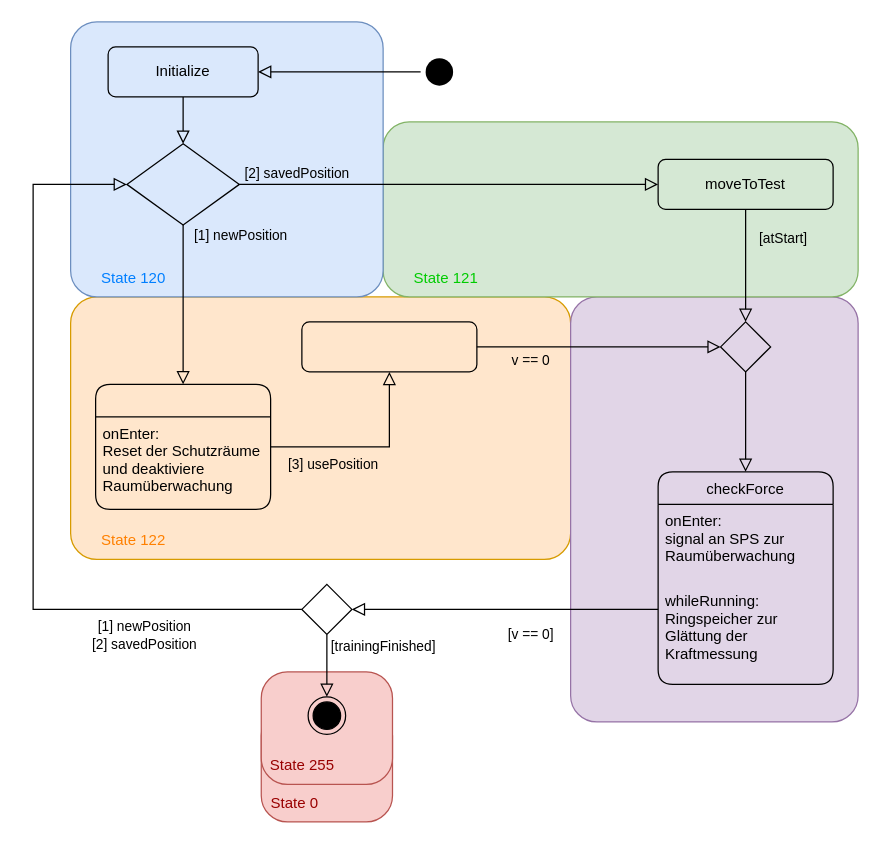
This 880x844 diagram has some shape labels left out. Each missing label, with the box of its shape:
command: (126, 142, 239, 225)
State 123: (569, 296, 858, 722)
teaching: (94, 383, 271, 509)
teachingBreak: (301, 321, 477, 372)
